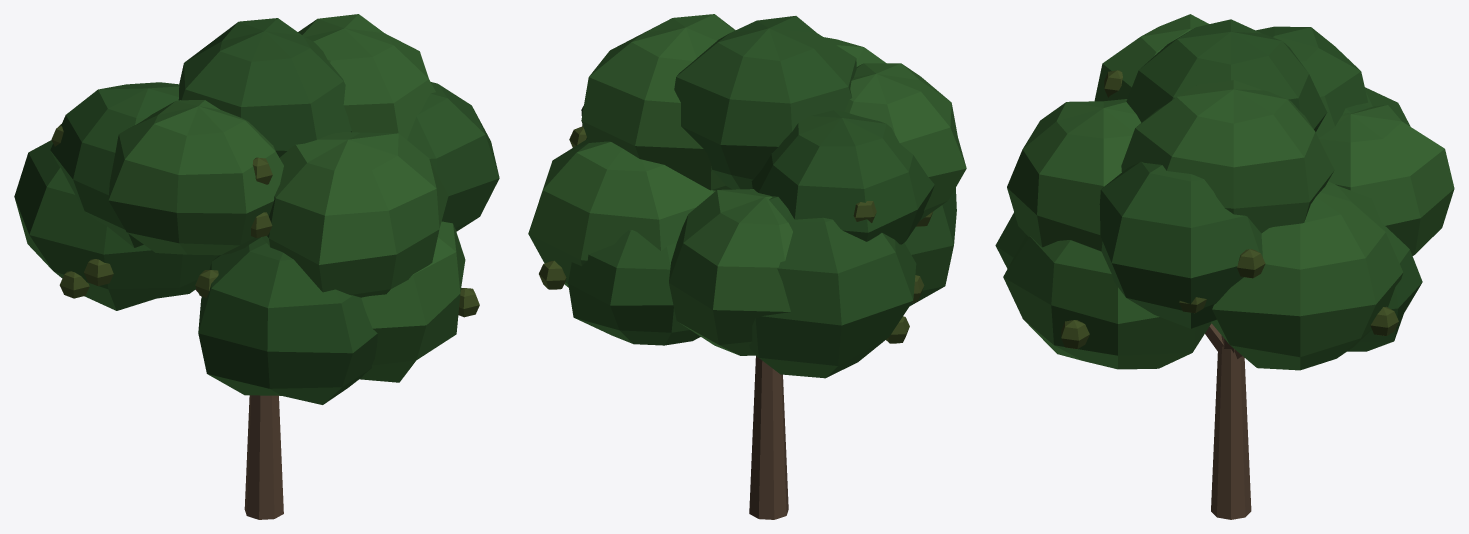
Rendered from tree_avocado_medium.glb.
3 views of the same model, side by side, from view 1: azimuth 30°, elevation 25°; view 2: azimuth 150°, elevation 25°; view 3: azimuth 270°, elevation 25° (orthographic).
Visible parts, largest first — view 1: tree_avocado_medium; view 2: tree_avocado_medium; view 3: tree_avocado_medium.
Boxes of the visible parts, x1,y1,x2,y2 form: tree_avocado_medium: (14, 14, 499, 519); tree_avocado_medium: (528, 14, 966, 519); tree_avocado_medium: (995, 14, 1454, 519).
Bounding box in the file's own units: 8.18 × 9.49 × 8.23.
